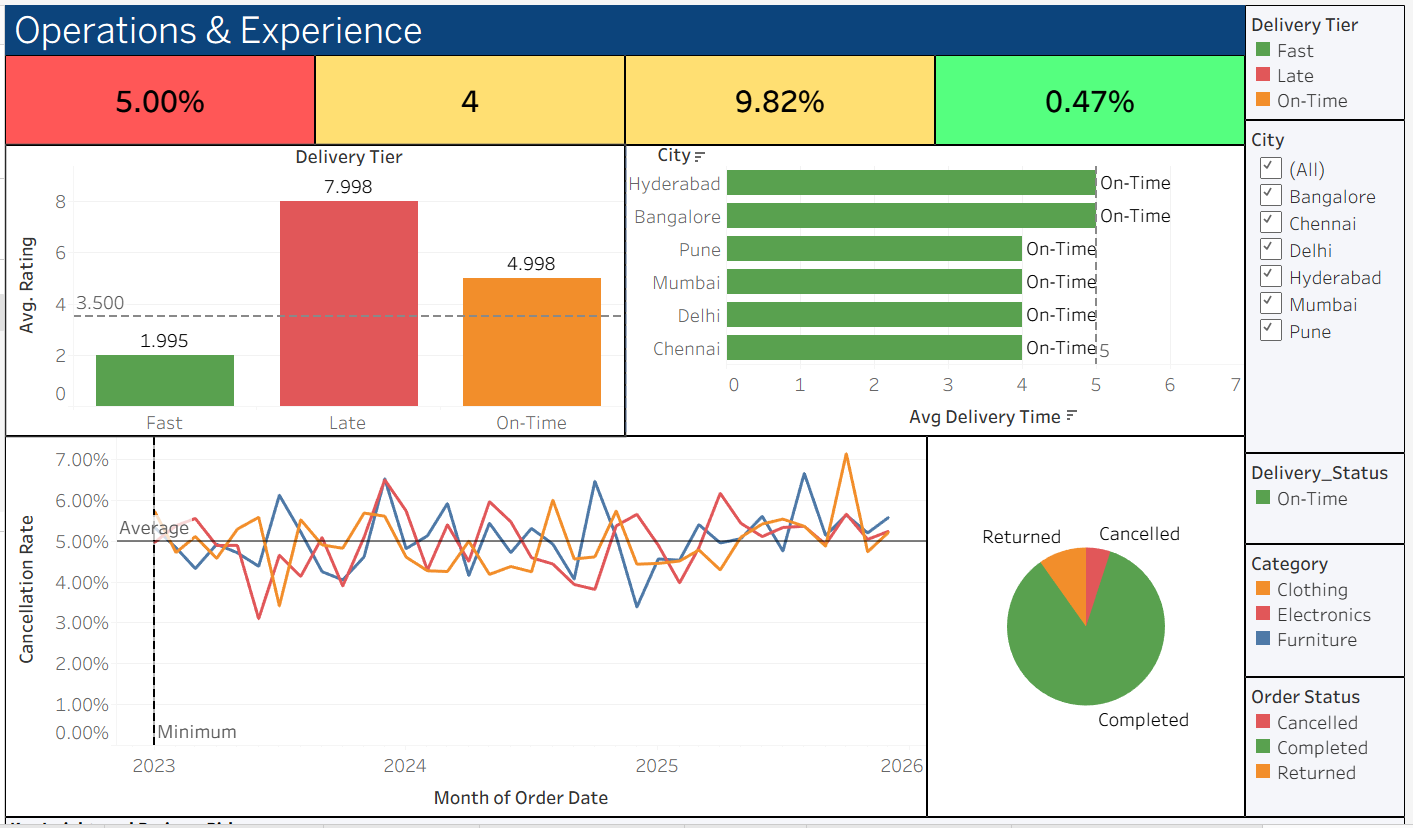

The dashboard page shown, as its layout file describes it:
{"tool":"tableau","page":{"name":"Operations & Experience","canvas":[1400,900],"ordinal":2},"visuals":[{"type":"text","box":[0,0,1240,49.6]},{"type":"legend","title":"Delivery Tier vs Rating","param":"[federated.1js2xx1114pdqi10e6kd708olrzj].[none:Calculation_0588019270225931:nk]","box":[1240,0,160,115]},{"type":"worksheet","title":"KPI 6: Cancellation Rate","mark":"Automatic","box":[0,50,310,90]},{"type":"worksheet","title":"KPI 7: Avg Delivery Time","mark":"Automatic","box":[310,50,310,90]},{"type":"worksheet","title":"Return Rate","mark":"Automatic","box":[620,50,310,90]},{"type":"worksheet","title":"KPI 8: Shipping Cost %","mark":"Automatic","box":[930,50,310,90]},{"type":"filter","title":"Delivery by City","param":"[federated.1js2xx1114pdqi10e6kd708olrzj].[none:city:nk]","box":[1240,115,160,333]},{"type":"worksheet","title":"Delivery Tier vs Rating","mark":"Bar","rows":["rating"],"cols":["Calculation_0588019270225931"],"box":[0,139.6,620,291.1]},{"type":"worksheet","title":"Delivery by City","mark":"Automatic","rows":["city"],"cols":["Calculation_0588019268308998"],"box":[620,139.6,620,291.1]},{"type":"worksheet","title":"Cancellation Trend","mark":"Line","rows":["Calculation_0588019268440071"],"cols":["order_date"],"box":[0,430.8,922,381.2]},{"type":"worksheet","title":"Order Status","mark":"Pie","box":[922,430.8,318,381.2]},{"type":"legend","title":"Delivery by City","param":"[federated.1js2xx1114pdqi10e6kd708olrzj].[usr:Calculation_0928043775668224:nk]","box":[1240,448,160,91]},{"type":"legend","title":"Cancellation Trend","param":"[federated.1js2xx1114pdqi10e6kd708olrzj].[none:category:nk]","box":[1240,539,160,133]},{"type":"legend","title":"Order Status","param":"[federated.1js2xx1114pdqi10e6kd708olrzj].[none:order_status:nk]","box":[1240,672,160,140]},{"type":"text","box":[0,812,1400,88]}]}

Visuals, with their boxes on the page's 1400x900 design canvas (x1, y1, x2, y2). These are canvas units, not pixel positions in the 1413x828 screenshot, which may show the page scaled, cropped or inside an application window:
text: (0,0,1240,50)
"Delivery Tier vs Rating" legend: (1240,0,1400,115)
"KPI 6: Cancellation Rate" worksheet: (0,50,310,140)
"KPI 7: Avg Delivery Time" worksheet: (310,50,620,140)
"Return Rate" worksheet: (620,50,930,140)
"KPI 8: Shipping Cost %" worksheet: (930,50,1240,140)
"Delivery by City" filter: (1240,115,1400,448)
"Delivery Tier vs Rating" worksheet (Bar marks): (0,140,620,431)
"Delivery by City" worksheet: (620,140,1240,431)
"Cancellation Trend" worksheet (Line marks): (0,431,922,812)
"Order Status" worksheet (Pie marks): (922,431,1240,812)
"Delivery by City" legend: (1240,448,1400,539)
"Cancellation Trend" legend: (1240,539,1400,672)
"Order Status" legend: (1240,672,1400,812)
text: (0,812,1400,900)
